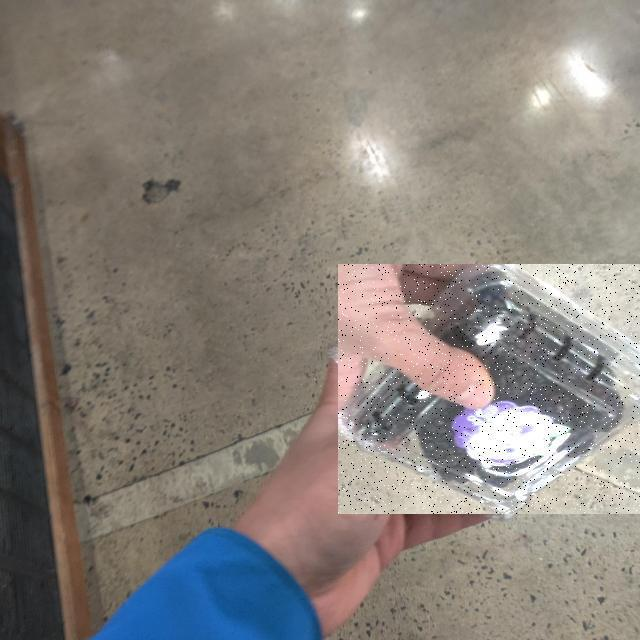Lettuce: (338, 265, 640, 515)
